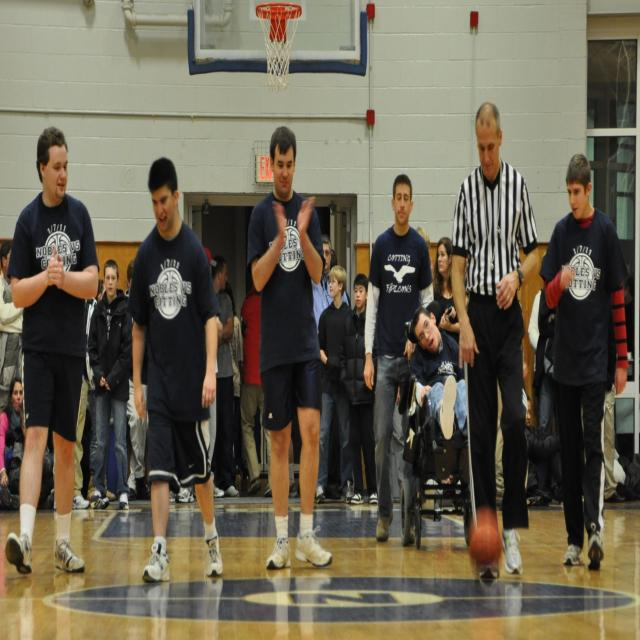body: (448, 99, 542, 583), (3, 123, 102, 577), (125, 154, 225, 588), (246, 121, 336, 573), (538, 149, 630, 575), (362, 172, 437, 547), (50, 232, 94, 512), (87, 258, 132, 511), (314, 263, 360, 506), (338, 271, 380, 508), (408, 305, 469, 440), (531, 252, 562, 493), (85, 277, 117, 508), (528, 280, 560, 502), (240, 282, 272, 499), (212, 255, 240, 499), (124, 259, 152, 501), (486, 349, 528, 510), (202, 245, 226, 499), (600, 367, 640, 508), (8, 406, 54, 510), (223, 280, 245, 483), (524, 393, 564, 500), (0, 238, 24, 415), (310, 234, 351, 336), (0, 373, 24, 510), (432, 235, 460, 348), (392, 377, 414, 499), (415, 469, 469, 518), (326, 244, 356, 310), (412, 224, 432, 288), (284, 426, 300, 499), (164, 481, 202, 506)
